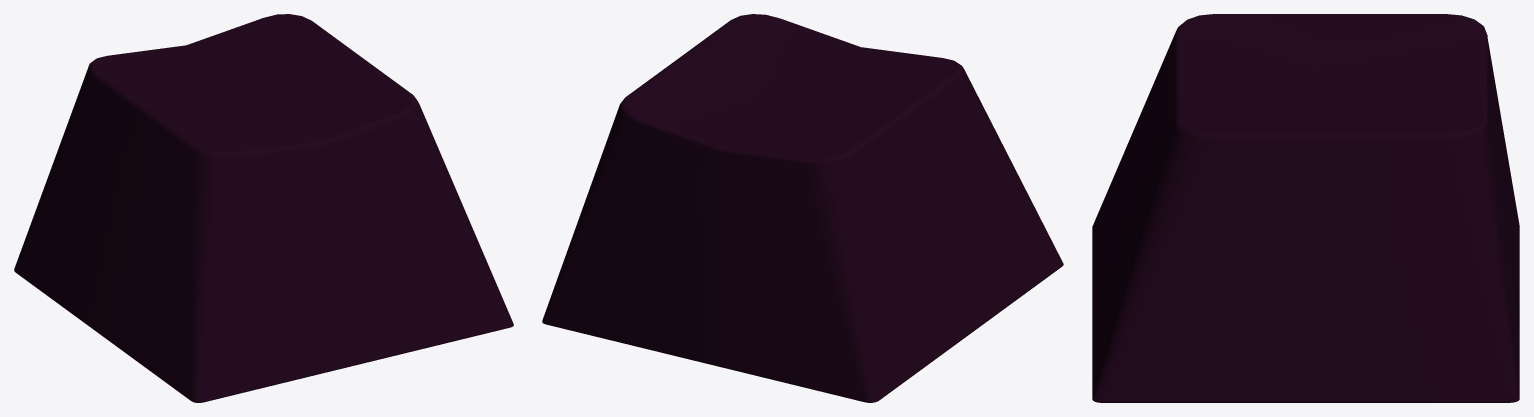
3 renders of one model, left to right at view 1: azimuth 30°, elevation 25°; view 2: azimuth 150°, elevation 25°; view 3: azimuth 270°, elevation 25°, orthographic. The views are drawn at different scales.
Visible parts, largest first — view 1: R1_1U_Mesh.001; view 2: R1_1U_Mesh.001; view 3: R1_1U_Mesh.001.
Boxes of the visible parts, box(x1,y1,x2,y2) form: R1_1U_Mesh.001: box(14, 14, 513, 402); R1_1U_Mesh.001: box(542, 14, 1063, 402); R1_1U_Mesh.001: box(1092, 14, 1519, 402).
Size of the model in its own units: 0.0181 by 0.0111 by 0.018.
